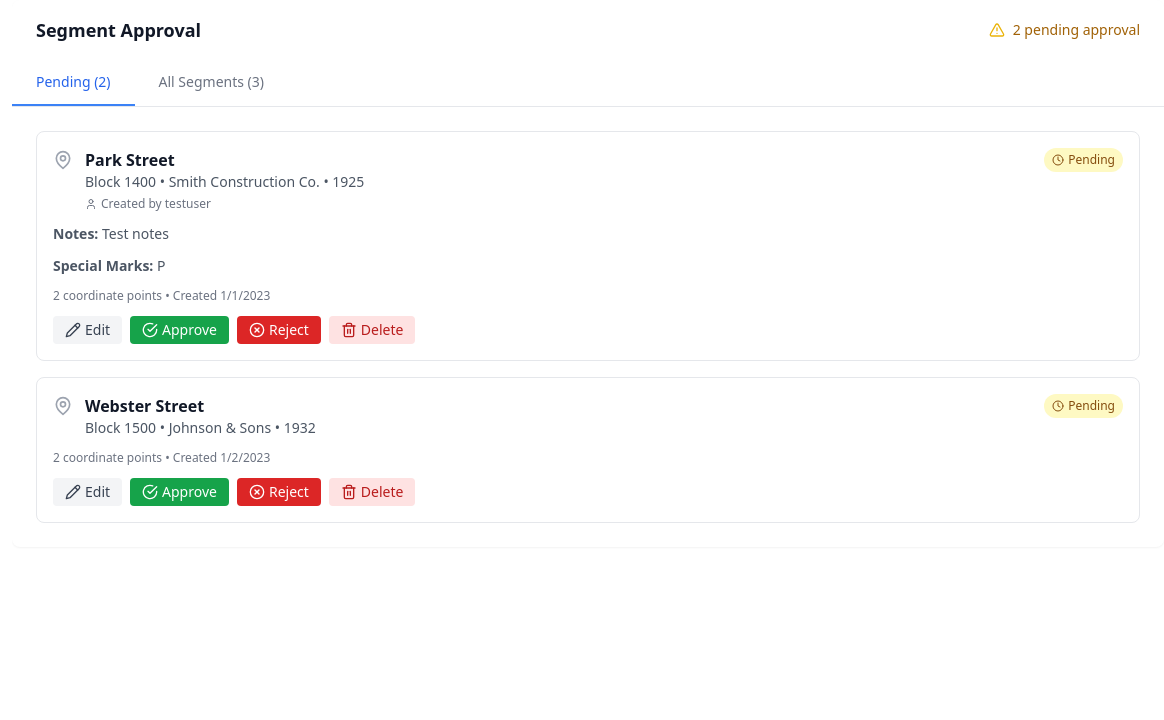
AdminSegmentApproval Component › switches between pending and all tabs
Expected: the heading "Park Street" is shown, [85,149,175,171]
Note: Click All Segments tab
Click the button "All Segments (3)" at (211, 83), box [135,60,288,106]
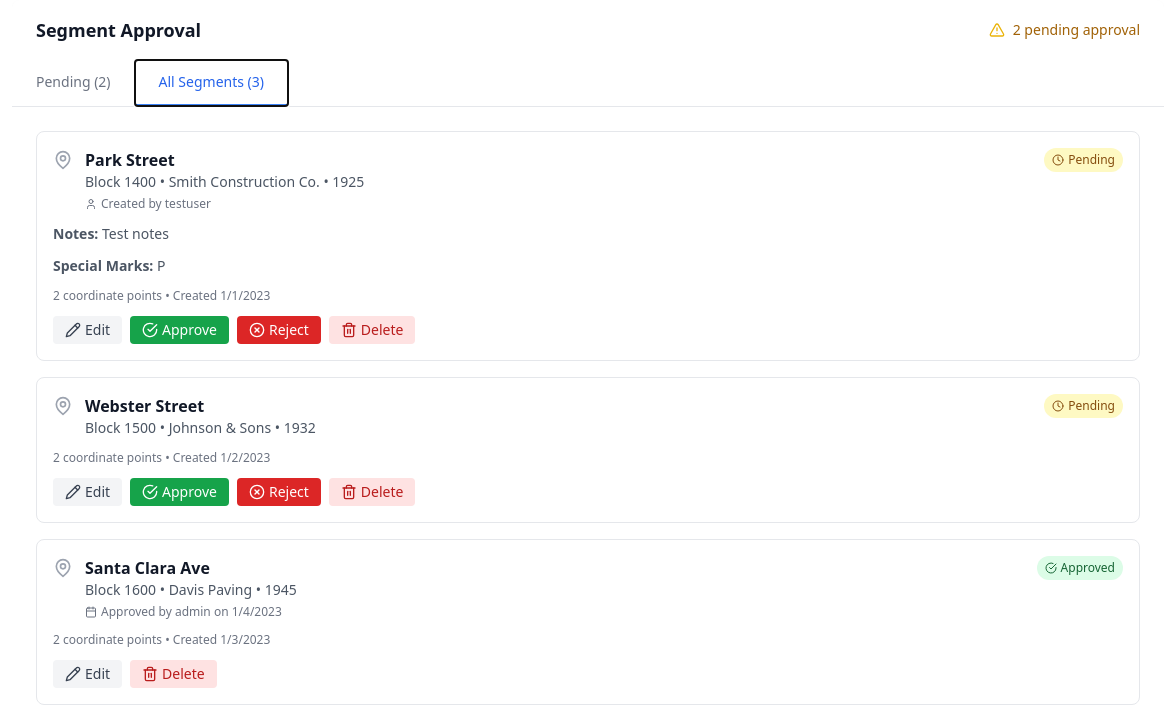
Expected: the heading "Santa Clara Ave" is shown, [85,557,210,579]
